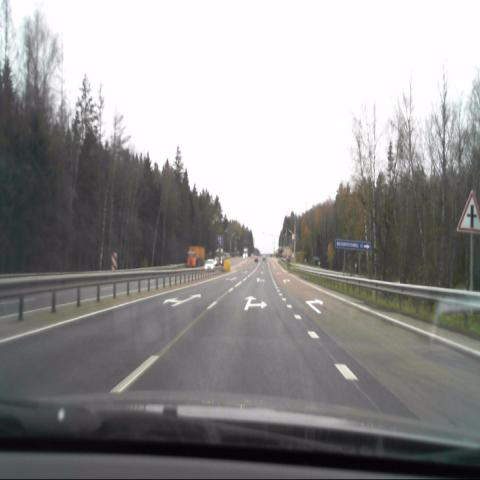2_3: (455, 189, 480, 233)
